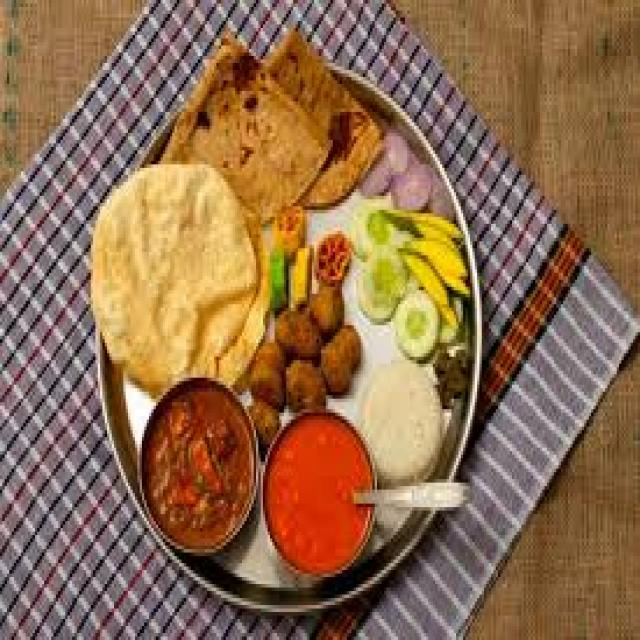ROTI: (161, 28, 323, 217)
